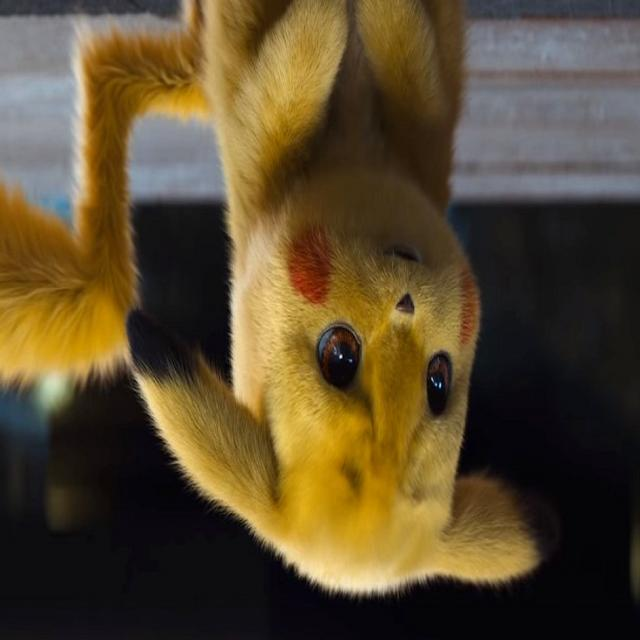Pikachu: (184, 119, 554, 607)
